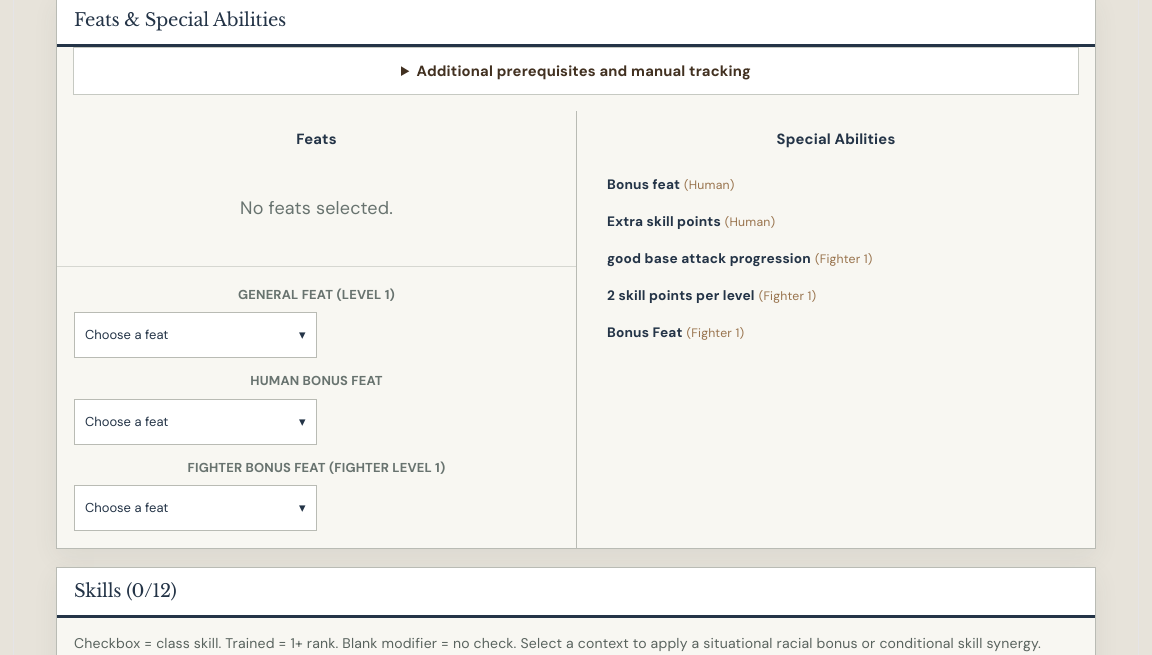
Test: armor and shield proficiency › lets a character choose and display a school for Spell Focus
The image size is (1152, 655).
(page scrolled)
Click the button named "General feat (level 1)" at (195, 335), box [74, 312, 316, 358]
(page scrolled)
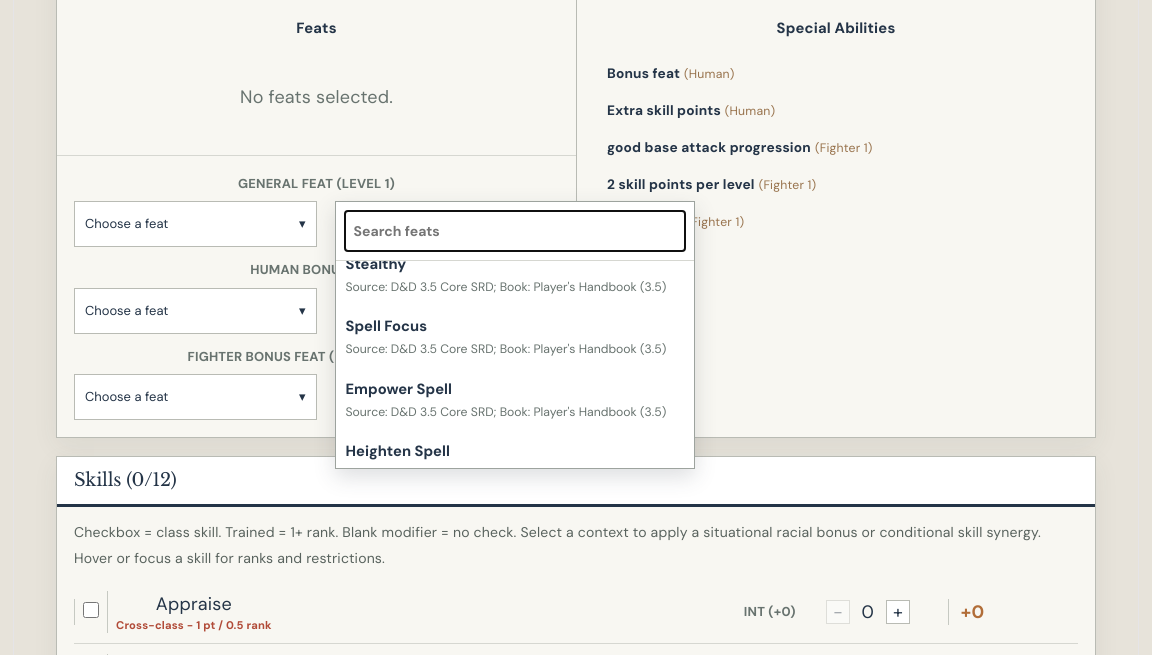
Click the option with aria-label "Choose a school; its spells get +1 save DC. Repeat for other" at (386, 326), box [336, 304, 694, 367]
(page scrolled)
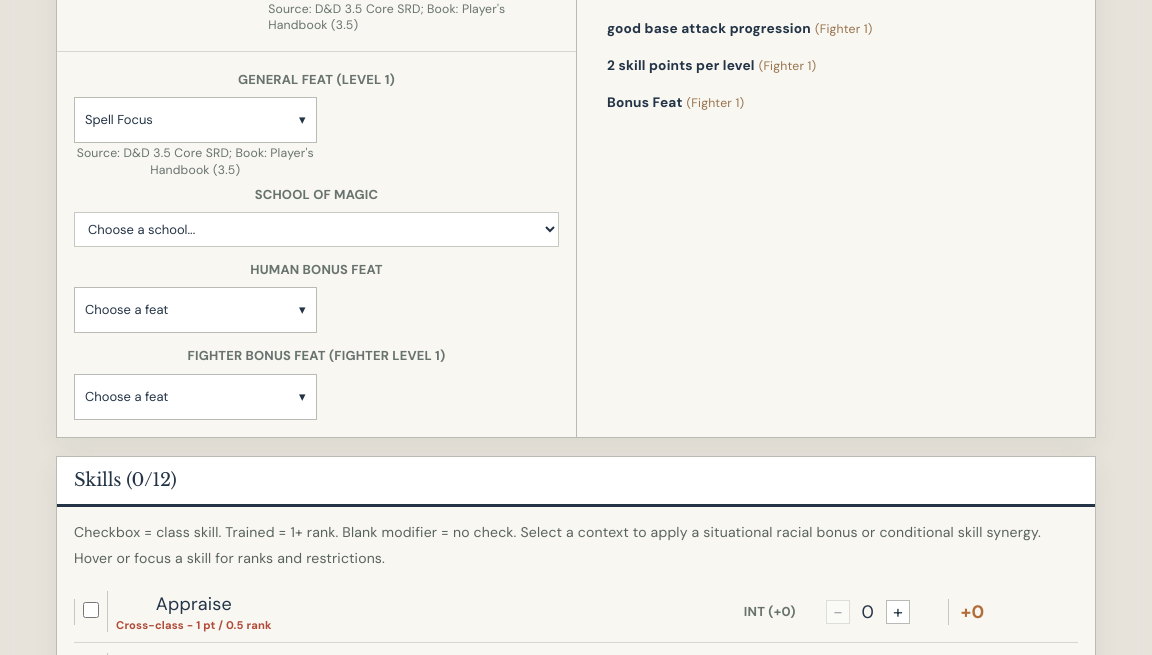
Select "Illusion" in the dropdown named "General feat (level 1) spell school" at (316, 230), box [74, 212, 559, 247]
(page scrolled)
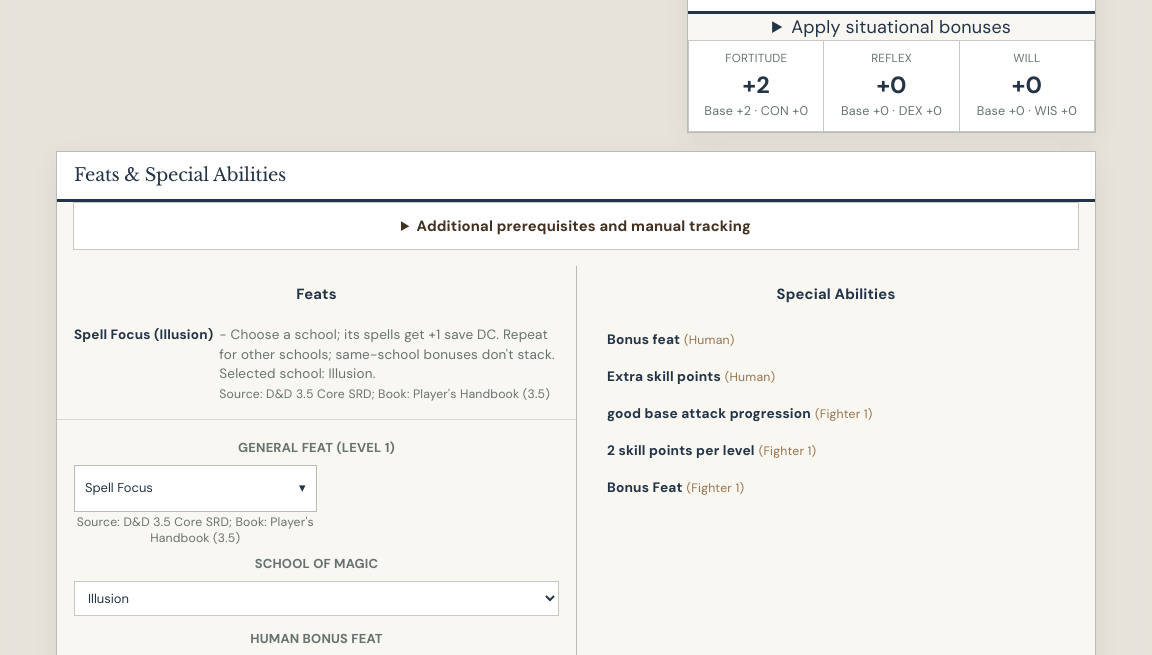
Result: the text "Spell Focus (Illusion)" is shown at [74, 322, 213, 348]
